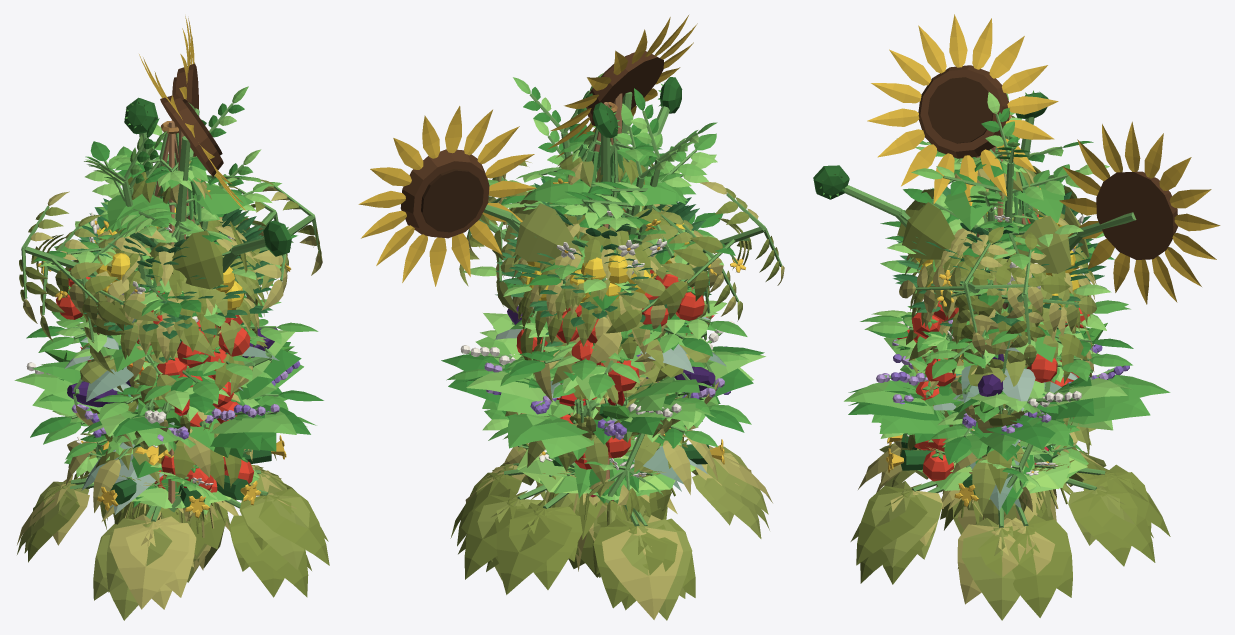
The model's file is plants.glb.
3 renders of one model, left to right at view 1: azimuth 30°, elevation 25°; view 2: azimuth 150°, elevation 25°; view 3: azimuth 270°, elevation 25°, orthographic. The views are drawn at different scales.
Parts seen in each view (by area): view 1: plant_courgette_s4_wilt, plant_tomate_s4, plant_tomate_s3_wilt, plant_tomate_s4_wilt, plant_courgette_s3_wilt, plant_courgette_s4, plant_tomate_s3, plant_tournesol_s4, plant_citronnier_s4_wilt, plant_citronnier_s3_wilt, plant_tournesol_s3_wilt, plant_courgette_s3 (+22 smaller); view 2: plant_tournesol_s4_wilt, plant_courgette_s4_wilt, plant_tomate_s4, plant_tomate_s3, plant_courgette_s3_wilt, plant_tomate_s3_wilt, plant_tomate_s4_wilt, plant_courgette_s4, plant_tournesol_s4, plant_courgette_s3, plant_citronnier_s4_wilt, plant_tournesol_s3 (+21 smaller); view 3: plant_tournesol_s4, plant_courgette_s4_wilt, plant_tournesol_s4_wilt, plant_tomate_s4_wilt, plant_tomate_s3, plant_courgette_s3_wilt, plant_tomate_s3_wilt, plant_tomate_s4, plant_courgette_s4, plant_courgette_s3, plant_tournesol_s3_wilt, plant_citronnier_s3_wilt (+20 smaller).
Part boxes in pixels (left/top/right/bottom): plant_courgette_s4_wilt: left=17, top=435, right=329, bottom=609; plant_tomate_s4: left=30, top=118, right=323, bottom=437; plant_tomate_s3_wilt: left=19, top=179, right=322, bottom=520; plant_tomate_s4_wilt: left=40, top=185, right=287, bottom=530; plant_courgette_s3_wilt: left=17, top=441, right=311, bottom=620; plant_courgette_s4: left=32, top=330, right=306, bottom=510; plant_tomate_s3: left=26, top=86, right=297, bottom=444; plant_tournesol_s4: left=89, top=54, right=254, bottom=451; plant_citronnier_s4_wilt: left=80, top=217, right=264, bottom=359; plant_citronnier_s3_wilt: left=86, top=221, right=268, bottom=359; plant_tournesol_s3_wilt: left=130, top=220, right=293, bottom=396; plant_courgette_s3: left=14, top=342, right=316, bottom=459; plant_tournesol_s4_wilt: left=358, top=106, right=582, bottom=314; plant_courgette_s4_wilt: left=450, top=425, right=772, bottom=619; plant_tomate_s4: left=480, top=88, right=747, bottom=469; plant_tomate_s3: left=446, top=73, right=751, bottom=427; plant_courgette_s3_wilt: left=477, top=428, right=769, bottom=620; plant_tomate_s3_wilt: left=479, top=161, right=784, bottom=511; plant_tomate_s4_wilt: left=459, top=191, right=742, bottom=519; plant_courgette_s4: left=475, top=313, right=764, bottom=464; plant_tournesol_s4: left=547, top=15, right=697, bottom=417; plant_courgette_s3: left=441, top=353, right=765, bottom=442; plant_citronnier_s4_wilt: left=512, top=202, right=696, bottom=346; plant_tournesol_s3: left=510, top=102, right=690, bottom=444; plant_tournesol_s4: left=867, top=14, right=1071, bottom=387; plant_courgette_s4_wilt: left=850, top=433, right=1155, bottom=617; plant_tournesol_s4_wilt: left=1006, top=121, right=1220, bottom=464; plant_tomate_s4_wilt: left=905, top=212, right=1096, bottom=524; plant_tomate_s3: left=864, top=92, right=1133, bottom=446; plant_courgette_s3_wilt: left=860, top=457, right=1170, bottom=620; plant_tomate_s3_wilt: left=899, top=115, right=1087, bottom=524; plant_tomate_s4: left=860, top=138, right=1132, bottom=464; plant_courgette_s4: left=844, top=318, right=1170, bottom=472; plant_courgette_s3: left=848, top=312, right=1133, bottom=454; plant_tournesol_s3_wilt: left=813, top=165, right=985, bottom=365; plant_citronnier_s3_wilt: left=905, top=208, right=1091, bottom=355.
Size of the model in its own units: 1.24 by 2.09 by 1.46.
